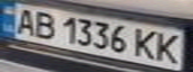1: (54, 15, 78, 45)
3: (72, 16, 96, 47), (90, 20, 112, 52)
6: (109, 24, 133, 55)
A: (9, 6, 39, 35)
B: (30, 9, 60, 39)
K: (151, 30, 187, 65), (130, 27, 160, 61)
